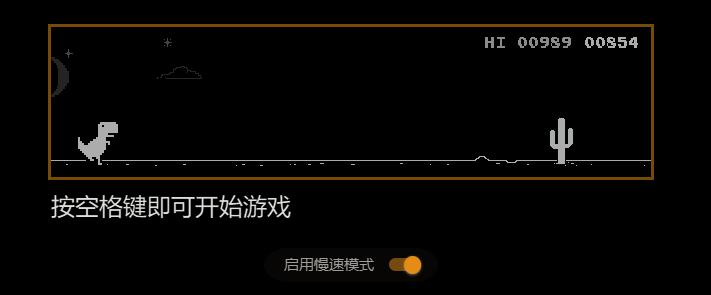cactus: (547, 116, 575, 167)
dino: (75, 120, 119, 165)
